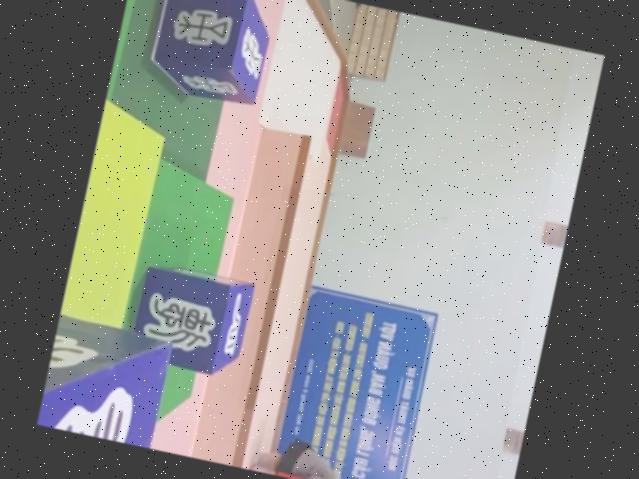R2 Fake Blue: (36, 314, 173, 449), (123, 258, 255, 380)
R2 Real Blue: (140, 0, 276, 105)
